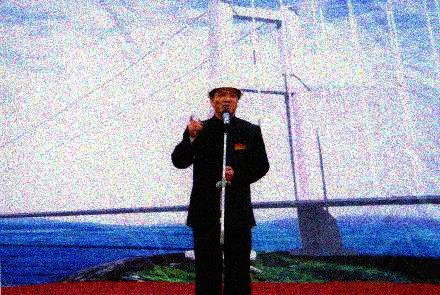helmet: (205, 72, 244, 116)
